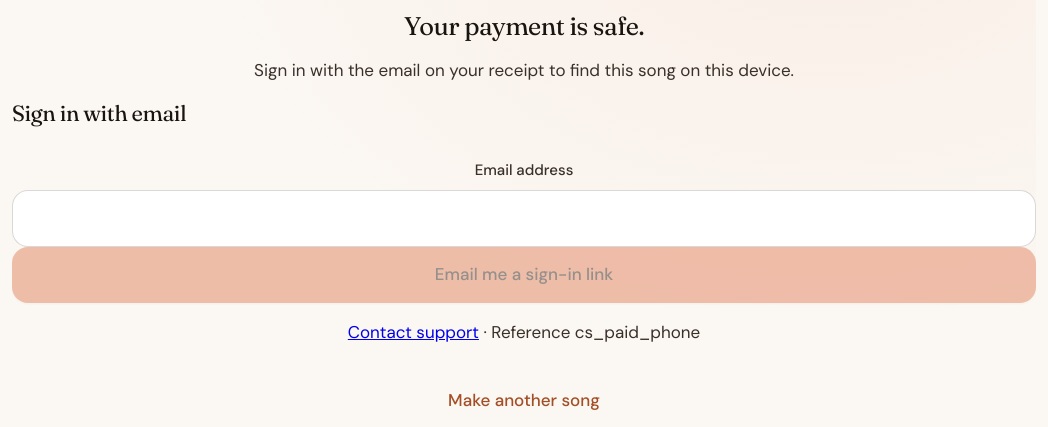
Test: paid-order lifecycle › keeps the checkout reference across the email sign-in redirect
The image size is (1048, 427).
Type "buyer@example.com" into the field labelled "Email address". click: (524, 218)
box: x1=12 y1=190 x2=1036 y2=247
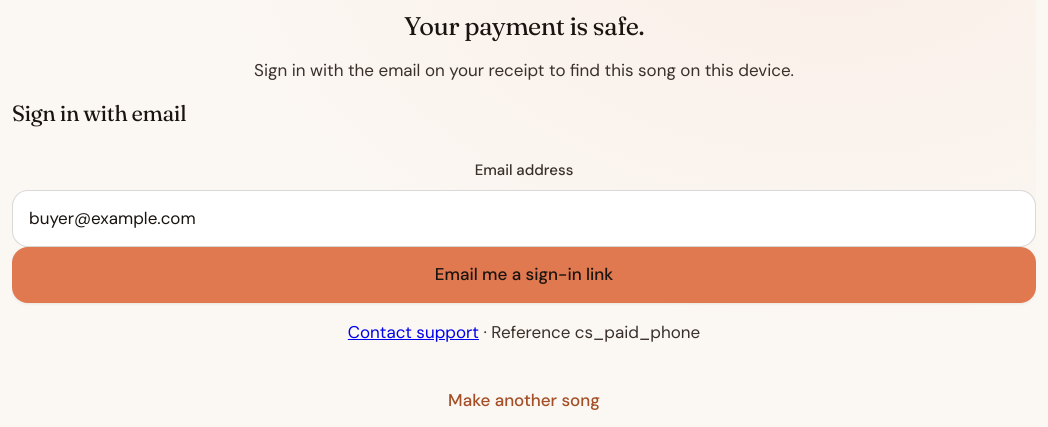
Click the button "Email me a sign-in link". click: (524, 275)
box: x1=12 y1=247 x2=1036 y2=303
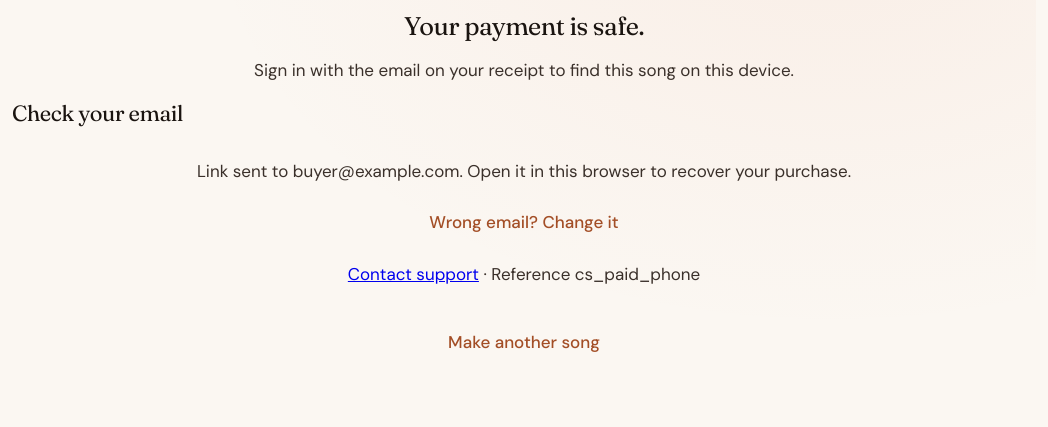
Check: the heading "Check your email" is shown, box x1=12 y1=100 x2=183 y2=126
